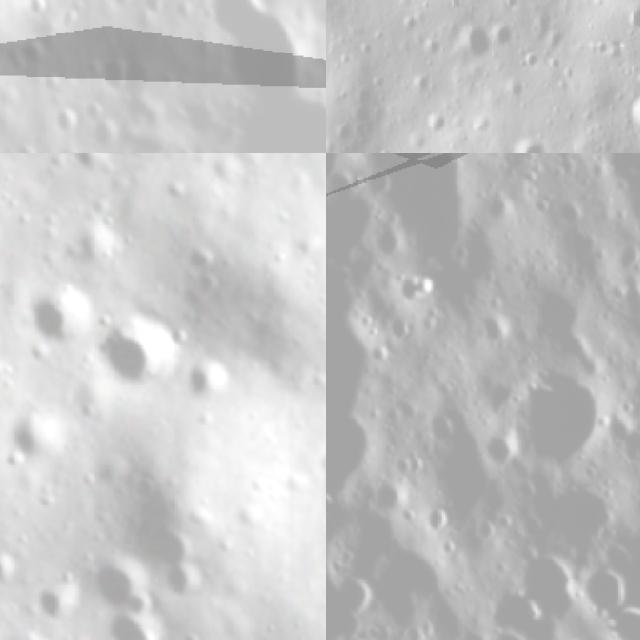crater: (477, 337, 632, 488), (505, 448, 640, 585), (326, 251, 413, 462), (326, 392, 409, 521), (510, 536, 597, 628), (98, 304, 178, 402), (560, 544, 640, 627), (326, 153, 403, 234), (463, 286, 537, 361), (23, 280, 101, 347), (481, 571, 556, 640), (358, 200, 427, 268), (326, 559, 392, 626), (595, 403, 640, 483), (79, 552, 145, 606), (348, 153, 402, 209), (463, 610, 559, 640), (181, 358, 239, 403), (10, 413, 57, 468), (477, 420, 528, 470), (457, 28, 508, 74), (98, 613, 172, 640), (415, 498, 458, 539), (605, 232, 640, 281), (85, 116, 127, 153), (326, 617, 389, 640), (104, 56, 137, 97), (12, 30, 50, 64), (511, 130, 562, 153), (0, 550, 22, 590), (623, 94, 640, 140), (13, 137, 45, 153), (25, 0, 56, 16)
